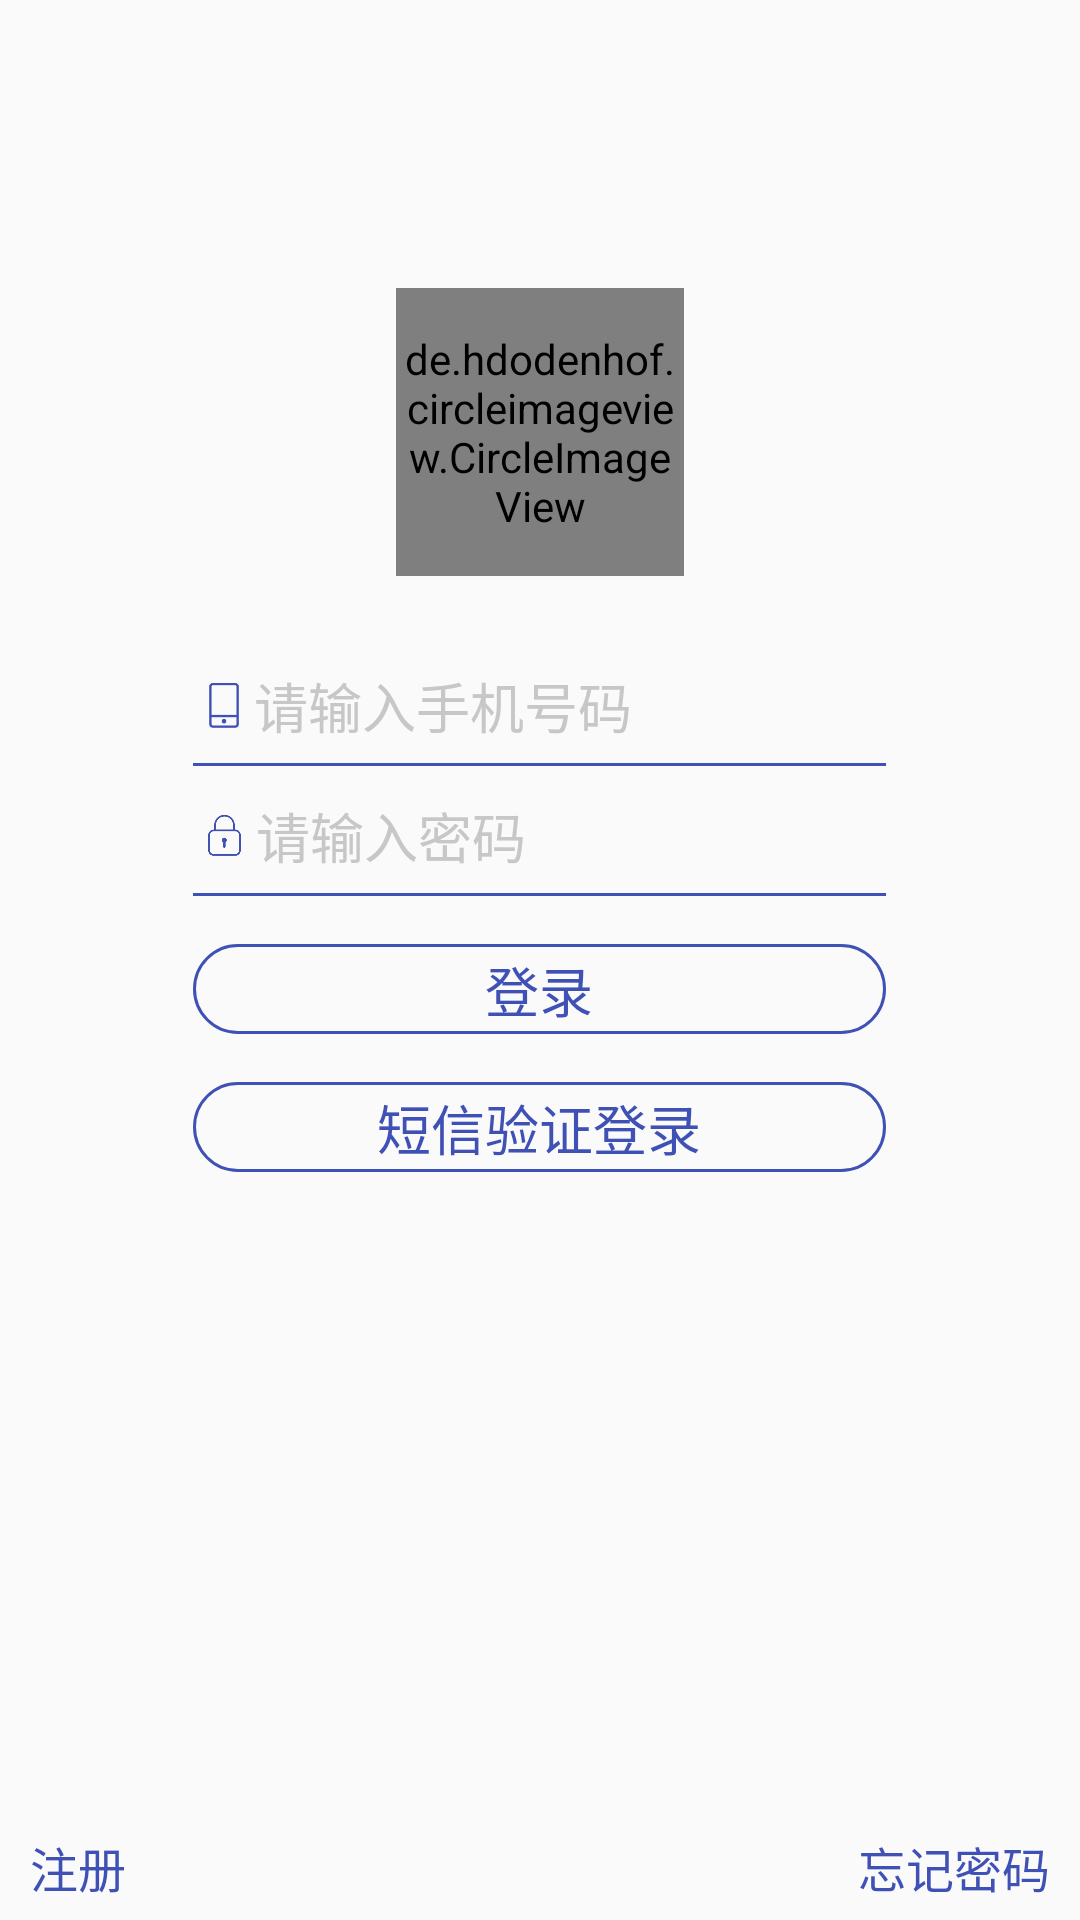

Where to tap for icons on this 1080×1920 app screen, as (x=x, y=y):
phone: (x=224, y=705)
secret: (x=224, y=835)
